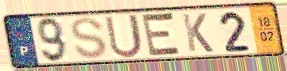2: (216, 8, 255, 56)
9: (36, 16, 70, 64)
E: (140, 11, 184, 58)
K: (180, 12, 215, 54)
S: (69, 16, 109, 61)
U: (103, 12, 145, 60)
